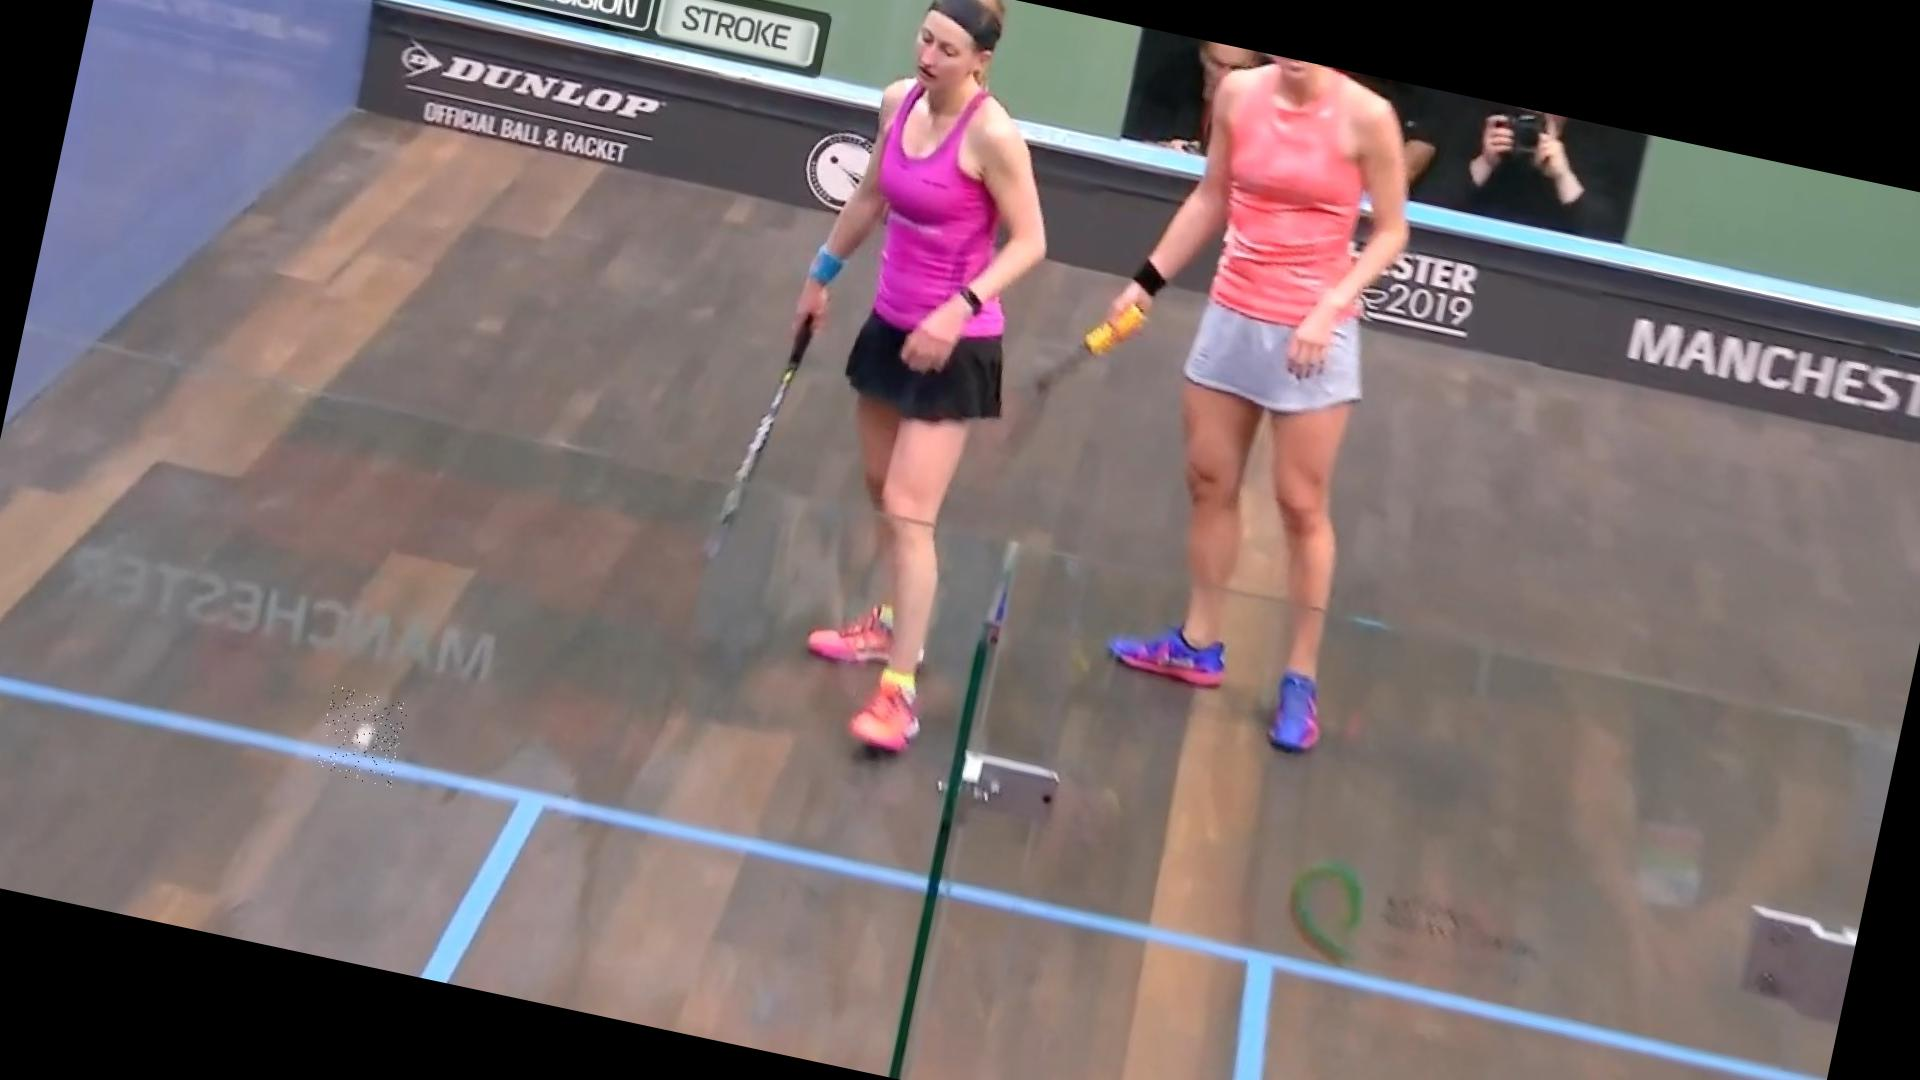Squash-Ball: (315, 684, 409, 787)
